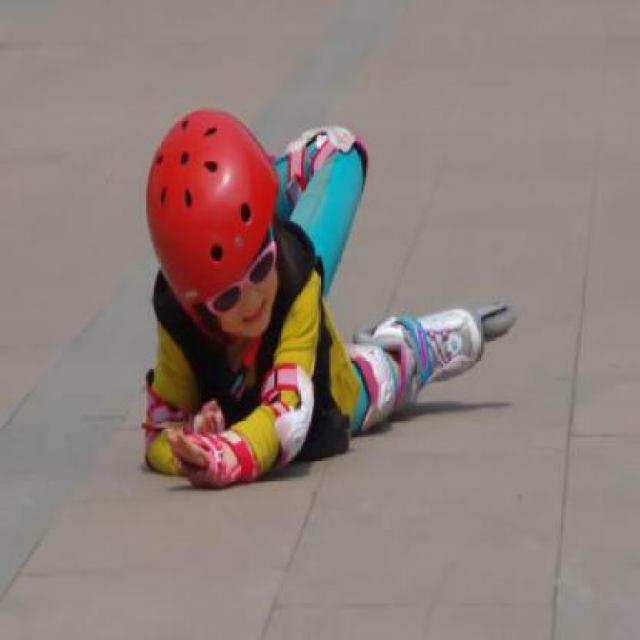fall: (123, 87, 514, 495)
